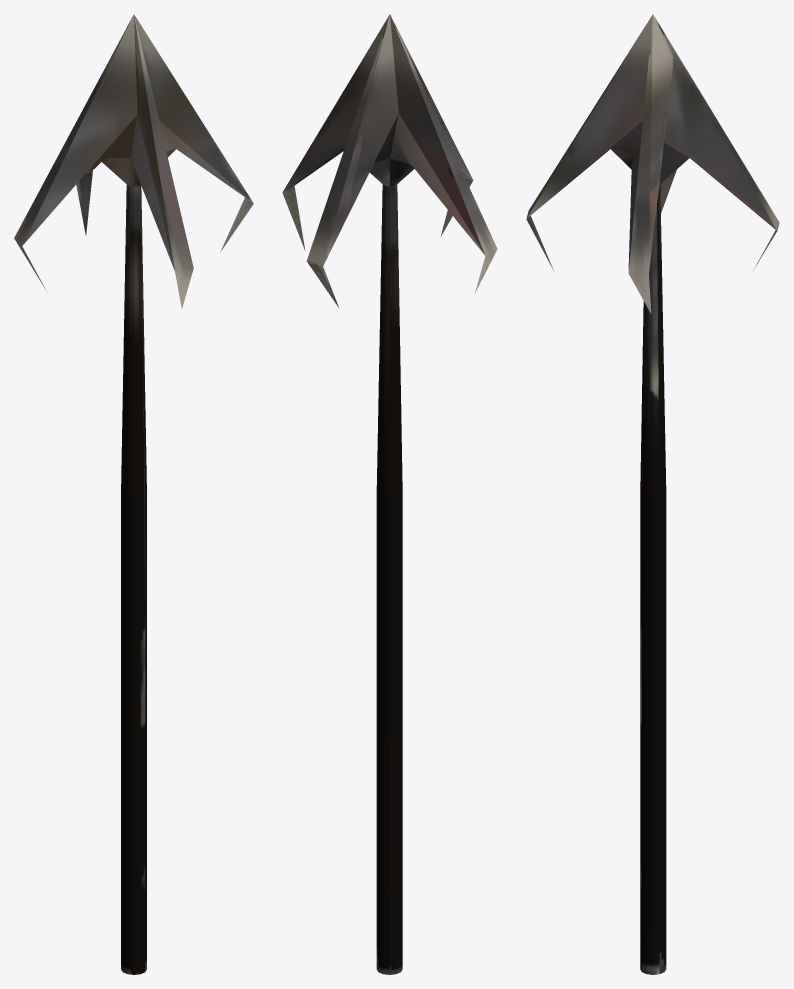
Rendered from Harpoon2.fbx.
3 renders of one model, left to right at view 1: azimuth 30°, elevation 25°; view 2: azimuth 150°, elevation 25°; view 3: azimuth 270°, elevation 25°, orthographic.
Parts seen in each view (by area): view 1: Cone; view 2: Cone; view 3: Cone.
Part boxes in pixels (<box>): Cone: <box>14,14,253,974</box>; Cone: <box>282,14,497,974</box>; Cone: <box>526,14,779,974</box>.
Size of the model in its own units: 279 by 1161 by 279.
